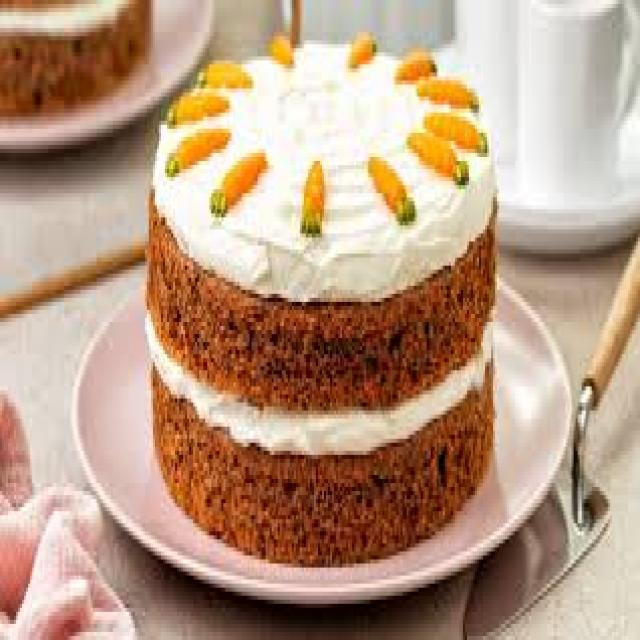Wet Waste: (111, 32, 536, 575)
